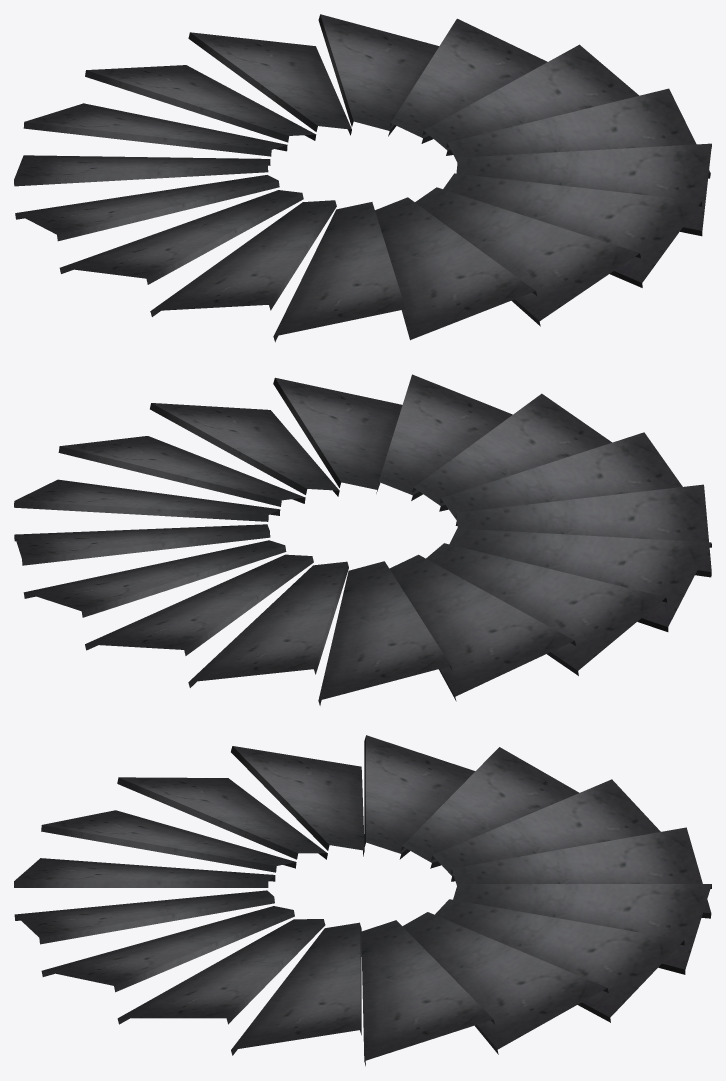
File: Factory_fan.FBX
3 renders of one model, top to bottom at view 1: azimuth 30°, elevation 25°; view 2: azimuth 150°, elevation 25°; view 3: azimuth 270°, elevation 25°, orthographic.
Parts seen in each view (by area): view 1: Object005; view 2: Object005; view 3: Object005.
Part boxes in pixels (x1,y1,x2,y2): Object005: (14,14,711,342); Object005: (14,374,711,705); Object005: (14,735,711,1066).
Bounding box in the file's own units: 9.06 × 9.06 × 0.5335.
